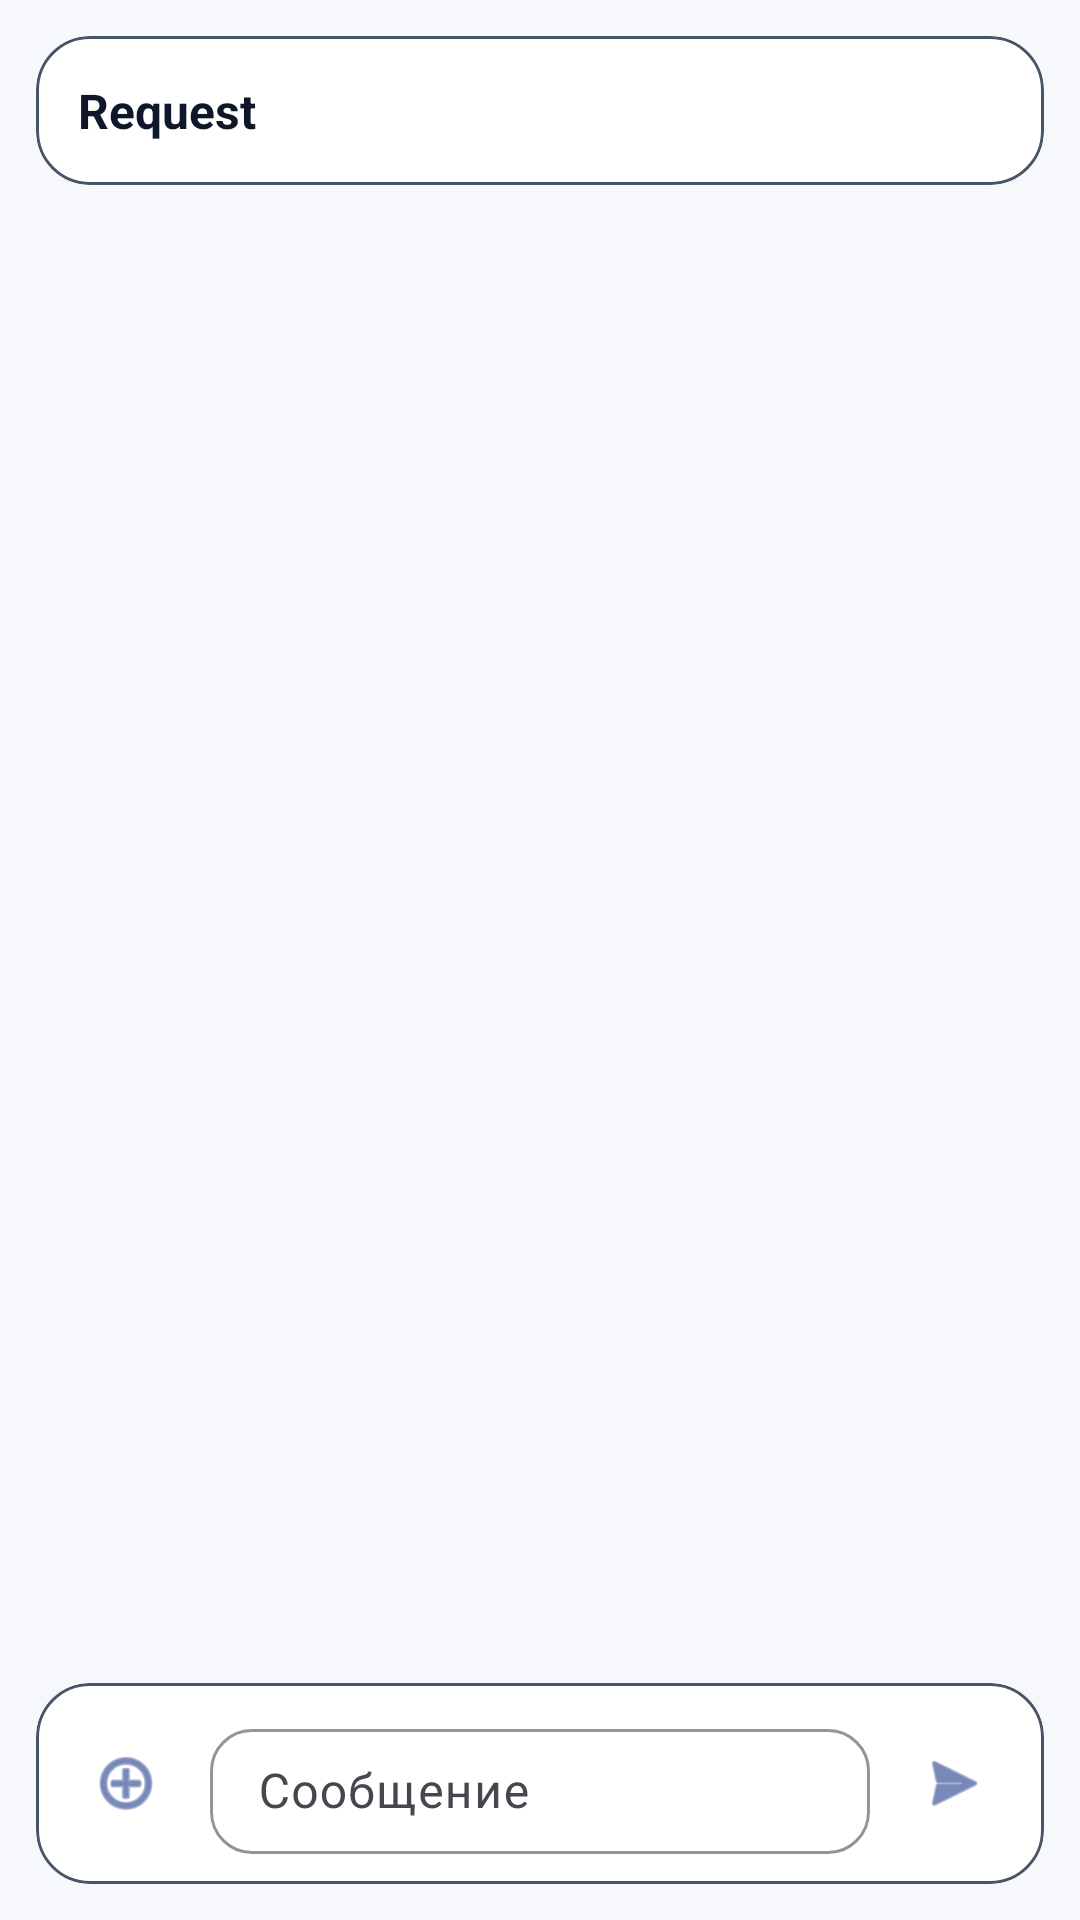

Point at icon controls on the screen. Image size 1080px x 1920px, points as (x,y).
attach: (126,1783)
send: (955,1783)
